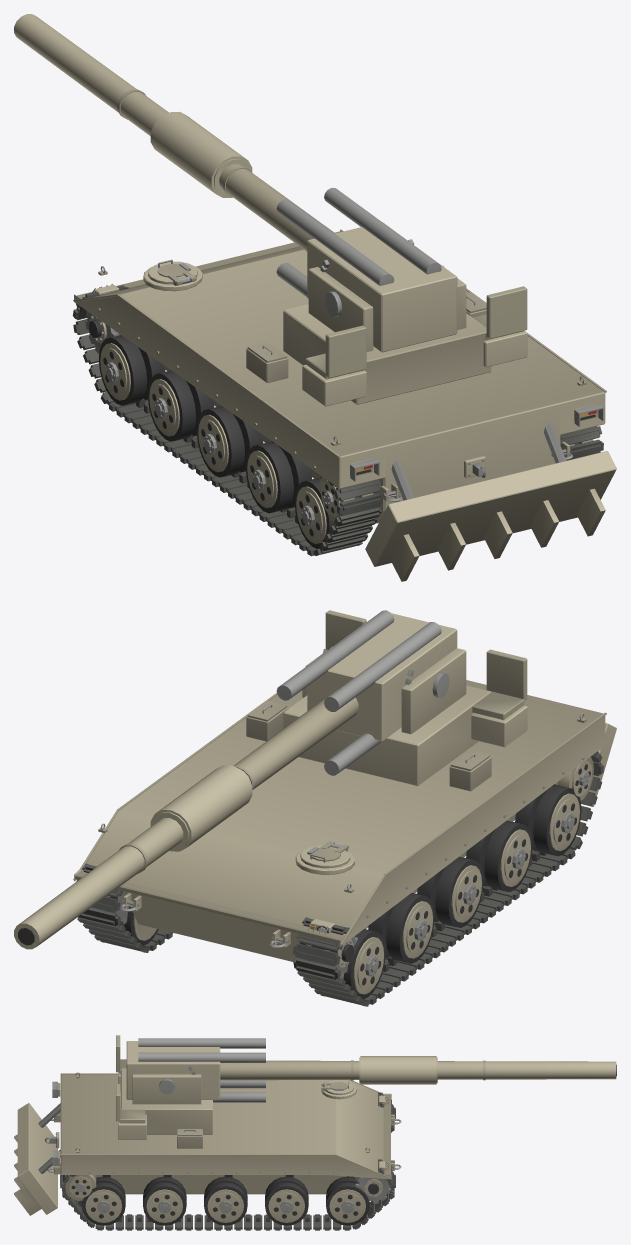
The model's file is rus_spg_malka.glb.
The picture shows the model from 3 angles, top to bottom: view 1: azimuth 30°, elevation 25°; view 2: azimuth 150°, elevation 25°; view 3: azimuth 270°, elevation 25°; orthographic projection. The views are drawn at different scales.
Parts seen in each view (by area): view 1: body, barrel, turret; view 2: body, barrel, turret; view 3: body, barrel, turret.
Boxes of the visible parts, x1,y1,x2,y2 form: body: (72,229,616,581); barrel: (14,14,457,352); turret: (283,239,491,404); body: (73,610,616,1006); barrel: (14,610,457,949); turret: (283,646,490,785); body: (14,1035,401,1230); barrel: (126,1038,616,1102); turret: (121,1066,212,1134).
Bounding box in the file's own units: 3.38 × 2.78 × 10.5.
